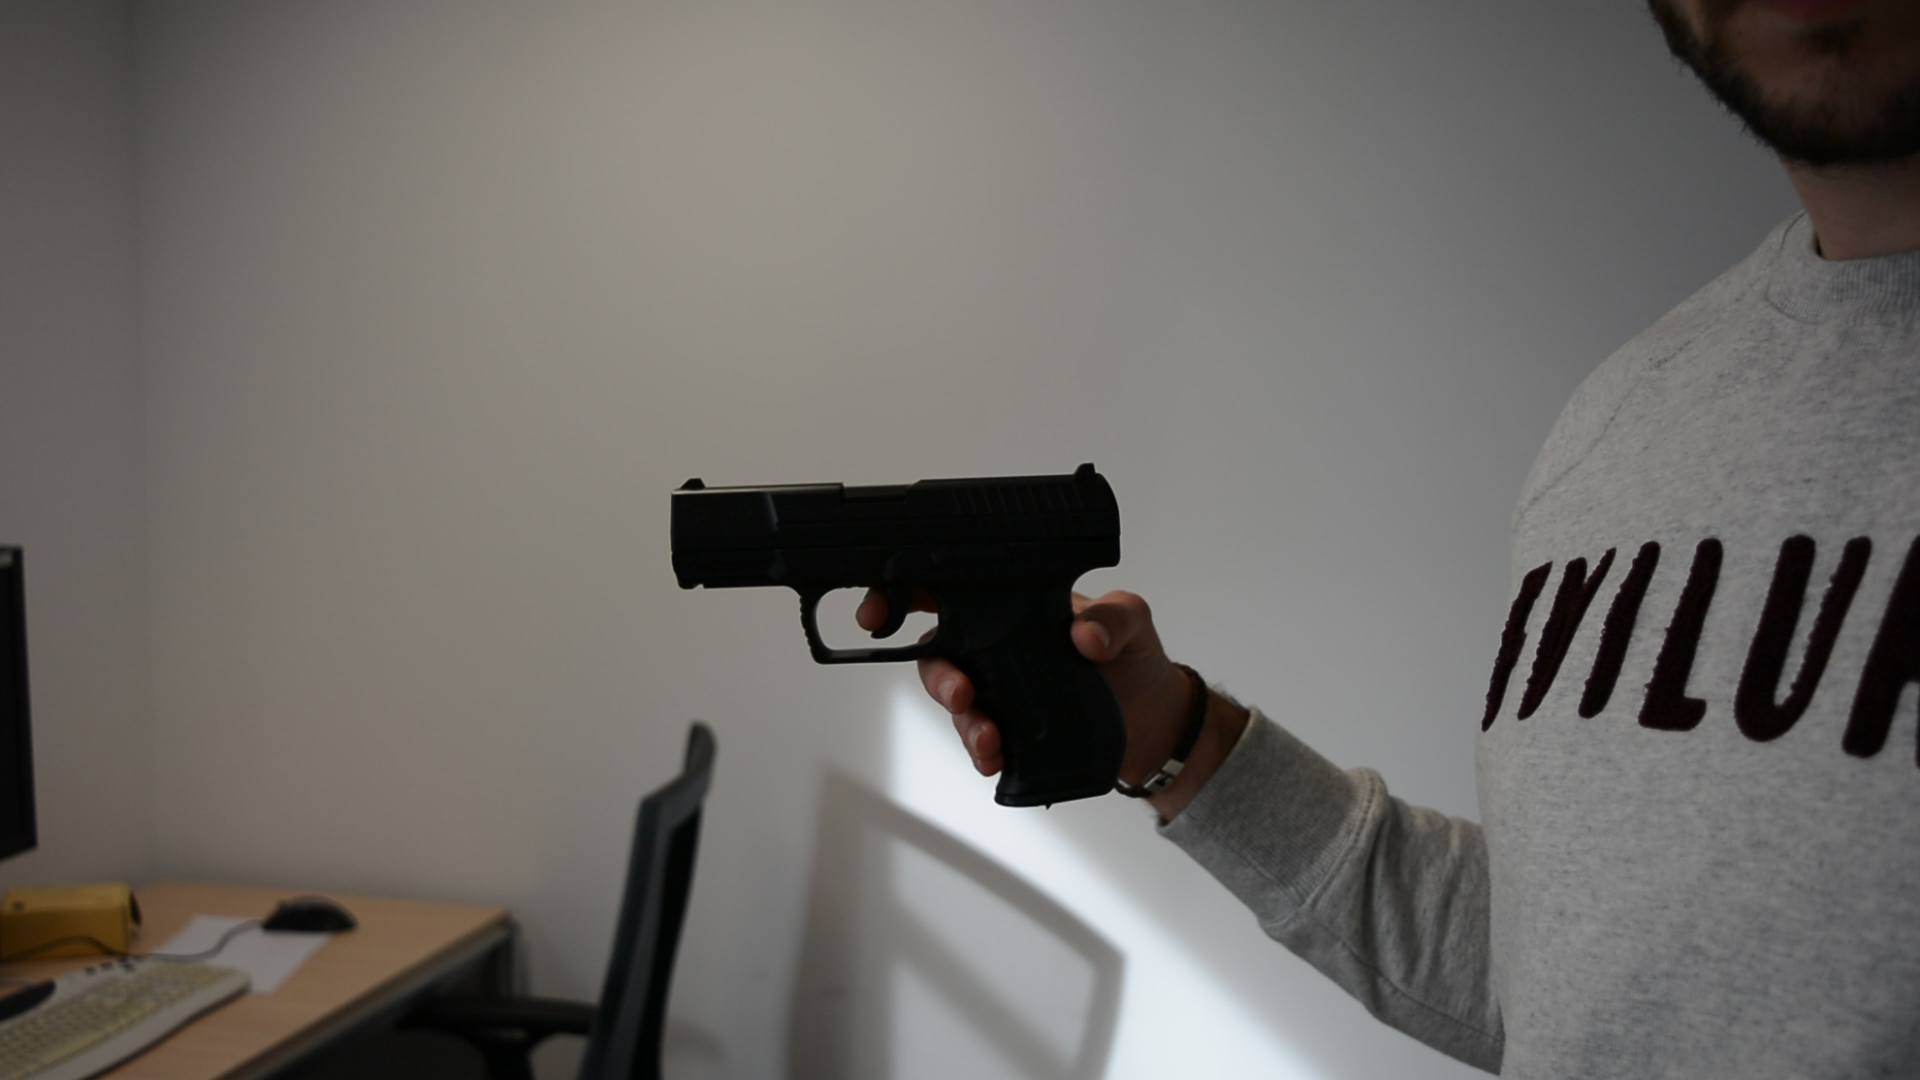pistol: (669, 459, 1127, 812)
